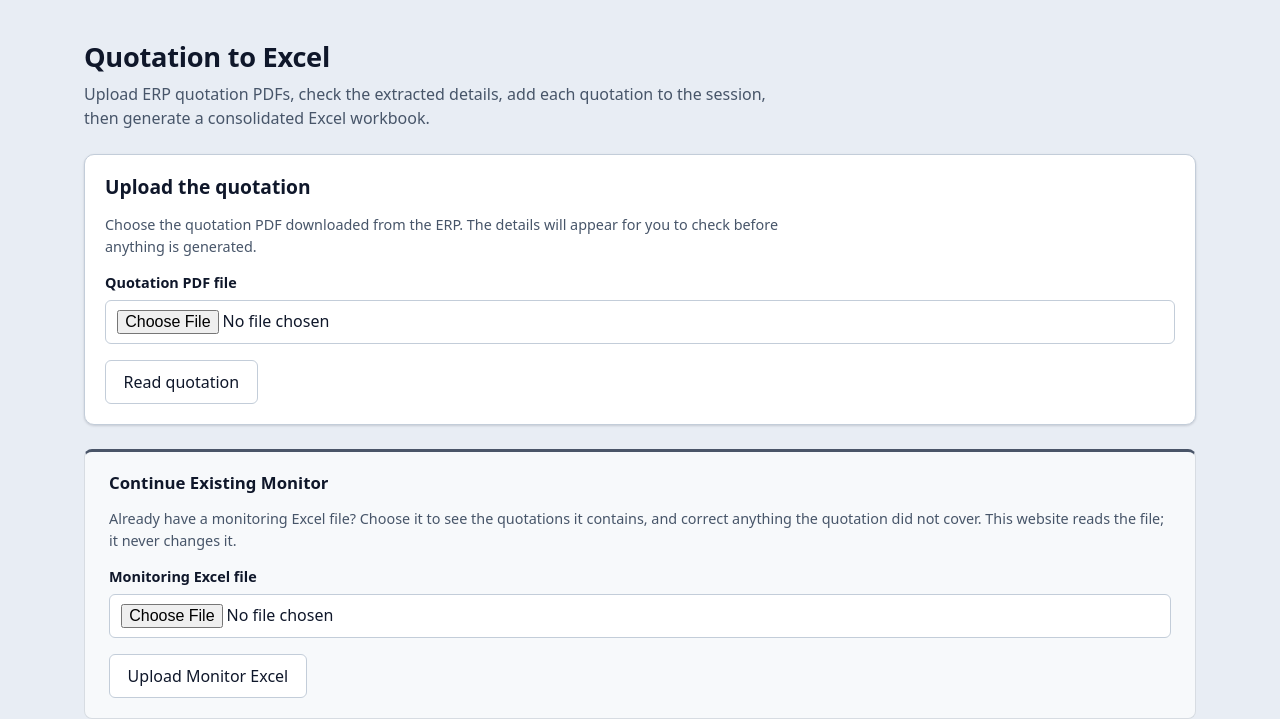
the continue existing monitor section › asks for a file before sending anything to the backend
Click the button "Upload Monitor Excel".
click(208, 676)  # box left=109, top=654, right=307, bottom=698
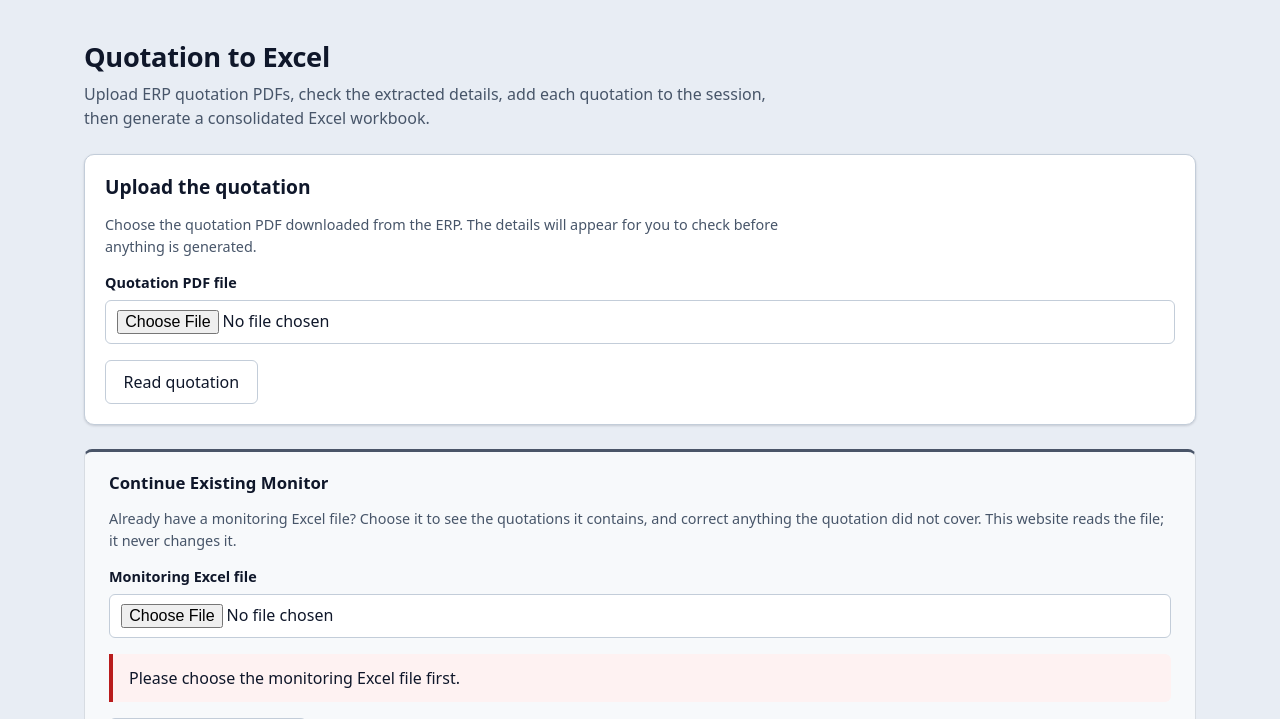
Result: the text "Please choose the monitoring Excel file first." is shown at left=129, top=667, right=460, bottom=689
